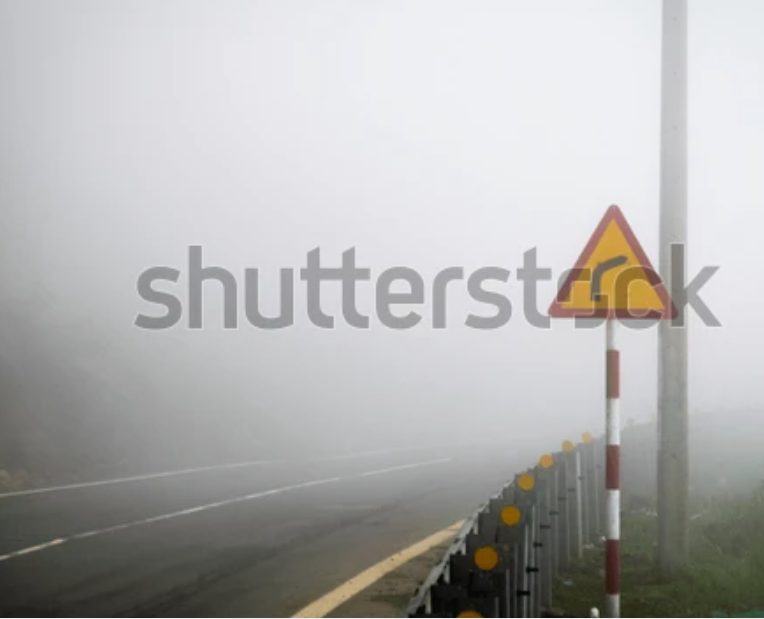Turn right: (537, 192, 683, 339)
